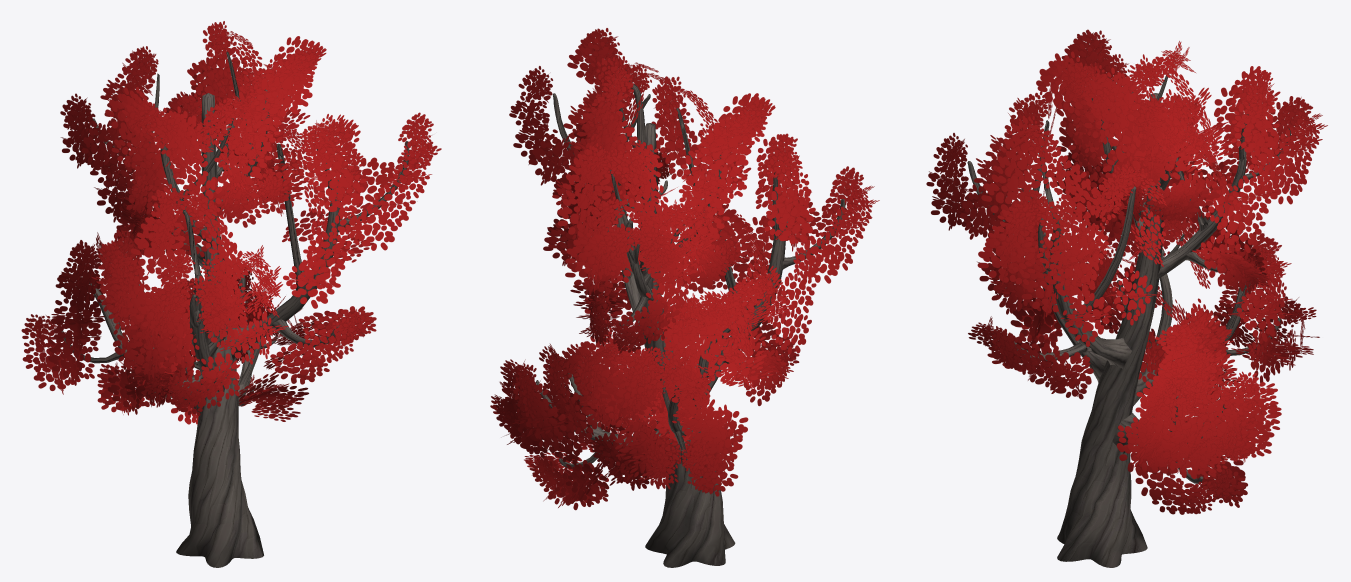
Rendered from tree_twisted_1.glb.
3 renders of one model, left to right at view 1: azimuth 30°, elevation 25°; view 2: azimuth 150°, elevation 25°; view 3: azimuth 270°, elevation 25°, orthographic. The views are drawn at different scales.
Visible parts, largest first — view 1: TwistedTree_3; view 2: TwistedTree_3; view 3: TwistedTree_3.
Part boxes in pixels (x1=…): TwistedTree_3: x1=21, y1=21, x2=441, y2=567; TwistedTree_3: x1=490, y1=28, x2=879, y2=567; TwistedTree_3: x1=926, y1=29, x2=1327, y2=567.
Bounding box in the file's own units: 11.36 × 16.07 × 11.51.
2 materials, 2 textured.
